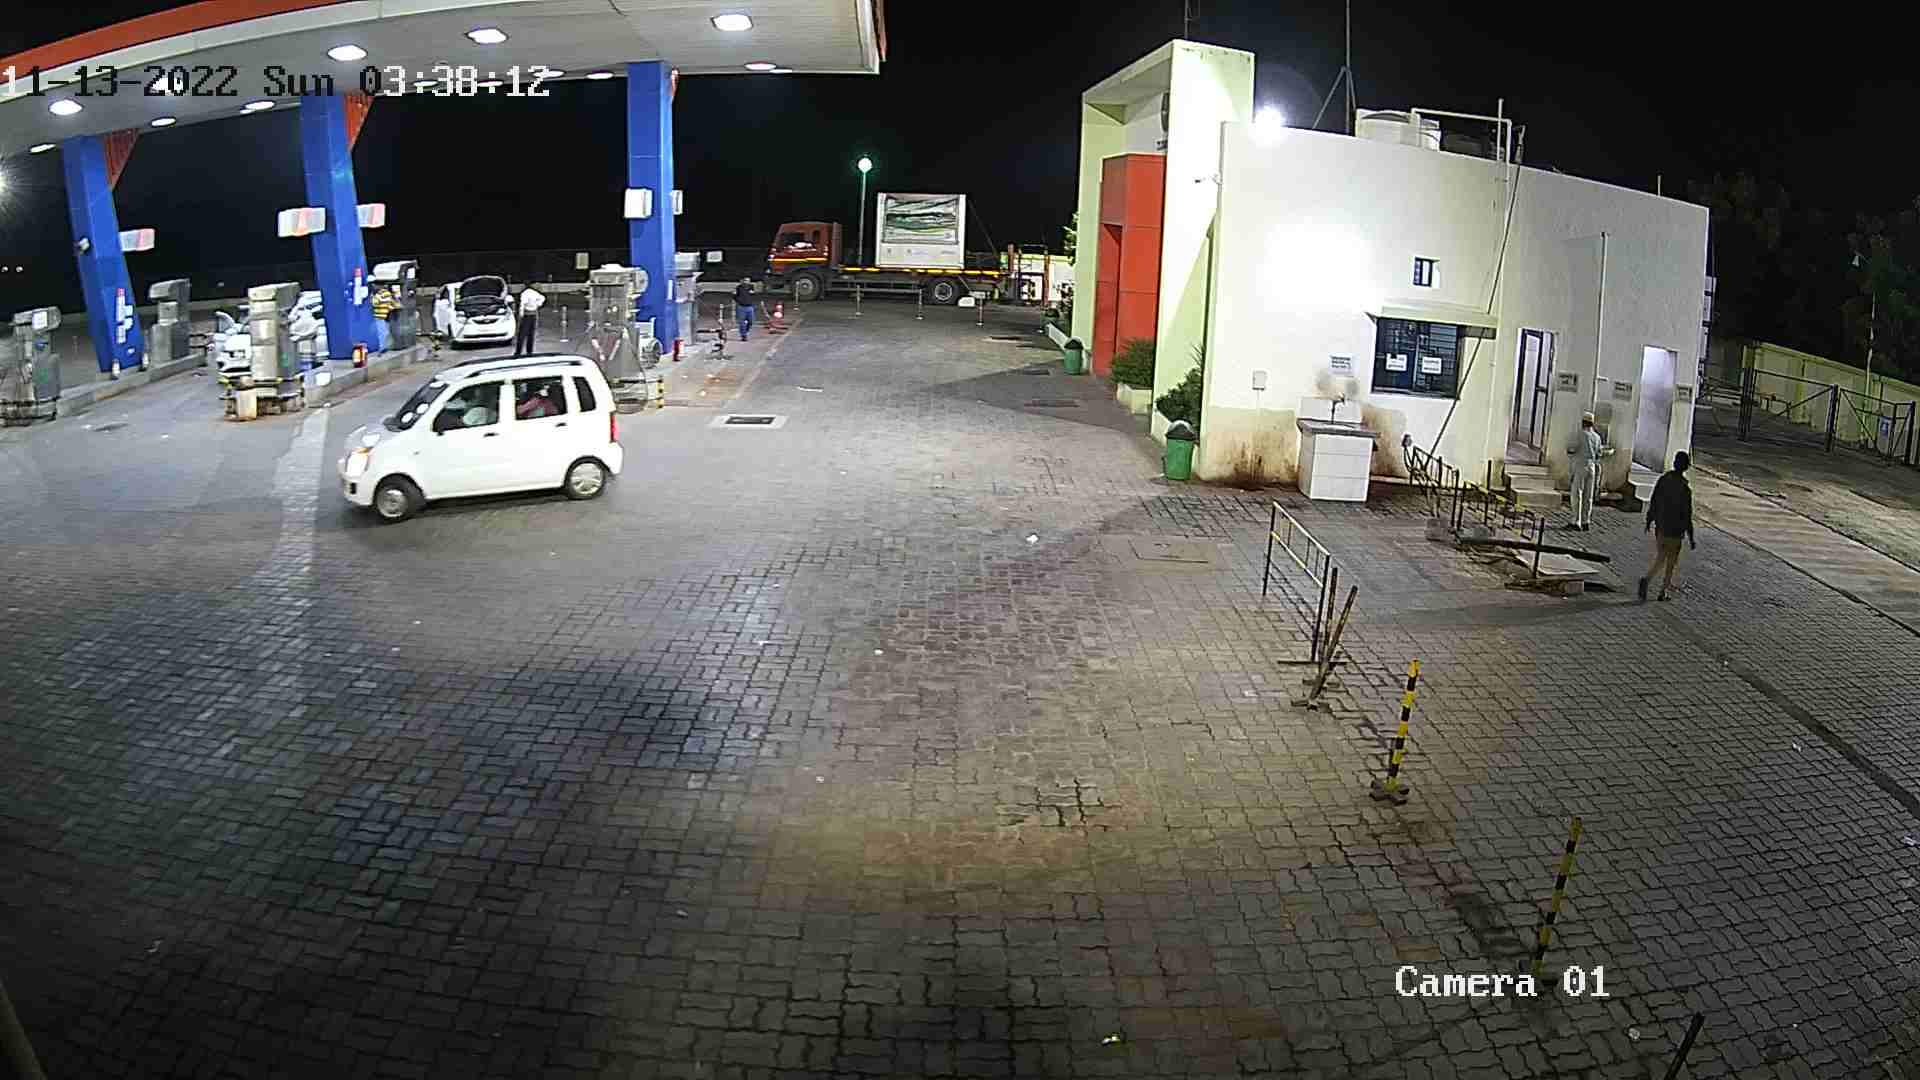Car: (319, 340, 629, 525), (195, 285, 332, 394), (426, 266, 529, 356)
HMV: (756, 187, 1040, 311)
